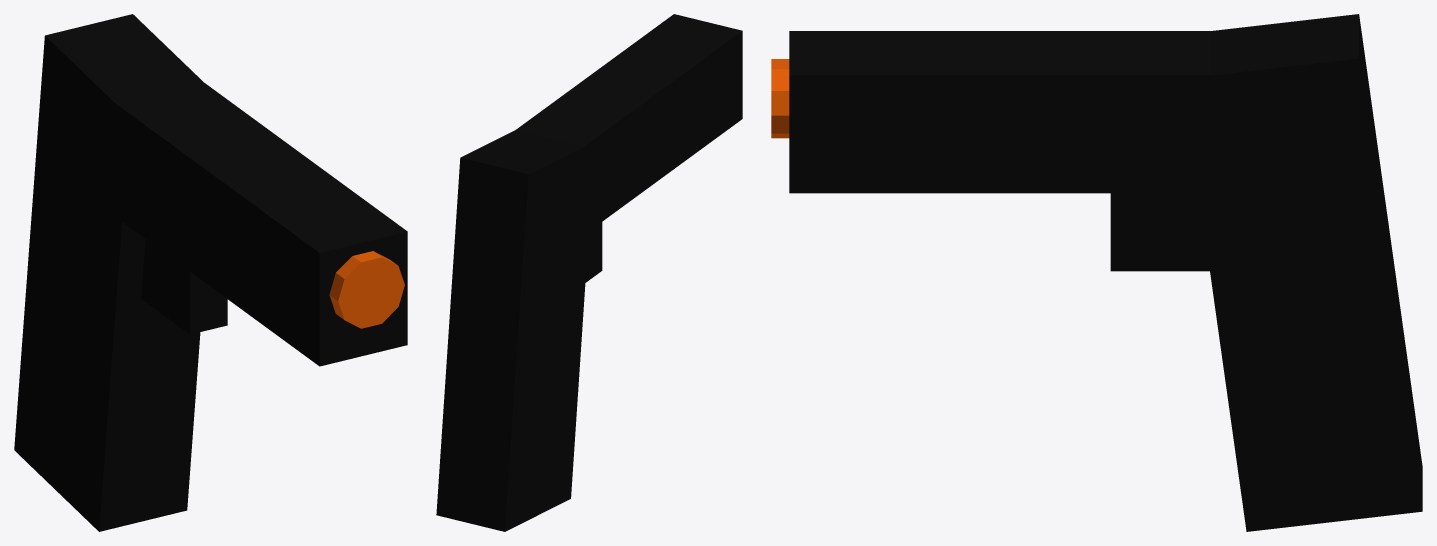
The model's file is gun.fbx.
The picture shows the model from 3 angles, left to right: view 1: azimuth 30°, elevation 25°; view 2: azimuth 150°, elevation 25°; view 3: azimuth 270°, elevation 25°; orthographic projection. The views are drawn at different scales.
Visible parts, largest first — view 1: gun; view 2: gun; view 3: gun.
Boxes of the visible parts, bbox=[...] form: gun: bbox=[14, 14, 407, 531]; gun: bbox=[436, 14, 742, 531]; gun: bbox=[771, 14, 1422, 531].
Size of the model in its own units: 6.28 by 31.11 by 38.79.
